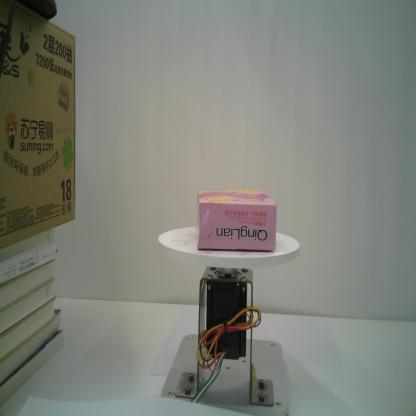Dessert: (196, 187, 277, 253)
